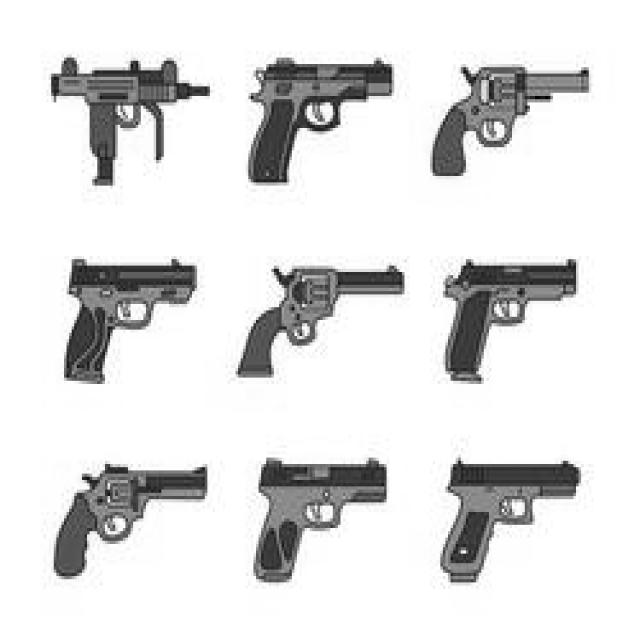Hand-Gun: (234, 244, 418, 395), (240, 36, 400, 204), (419, 52, 588, 201), (443, 239, 588, 395), (436, 442, 582, 592), (52, 250, 202, 390), (49, 458, 212, 585), (248, 446, 392, 589)
Sub-machine-gun: (42, 52, 215, 199)
